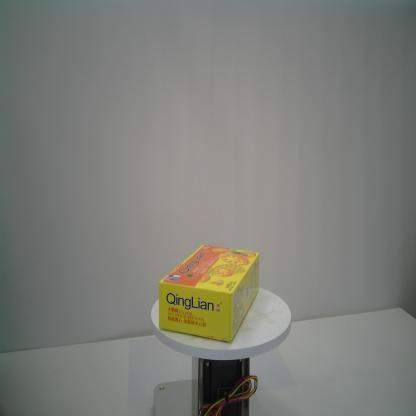Dessert: (158, 243, 261, 342)
